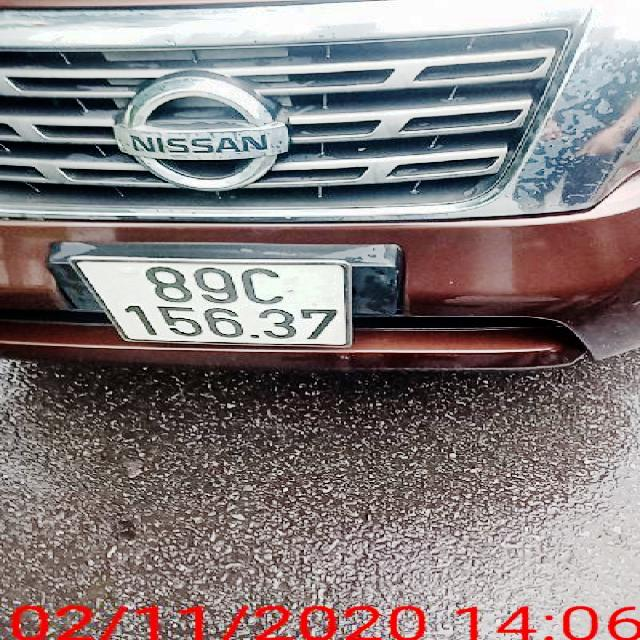license_plate: (71, 256, 358, 351)
